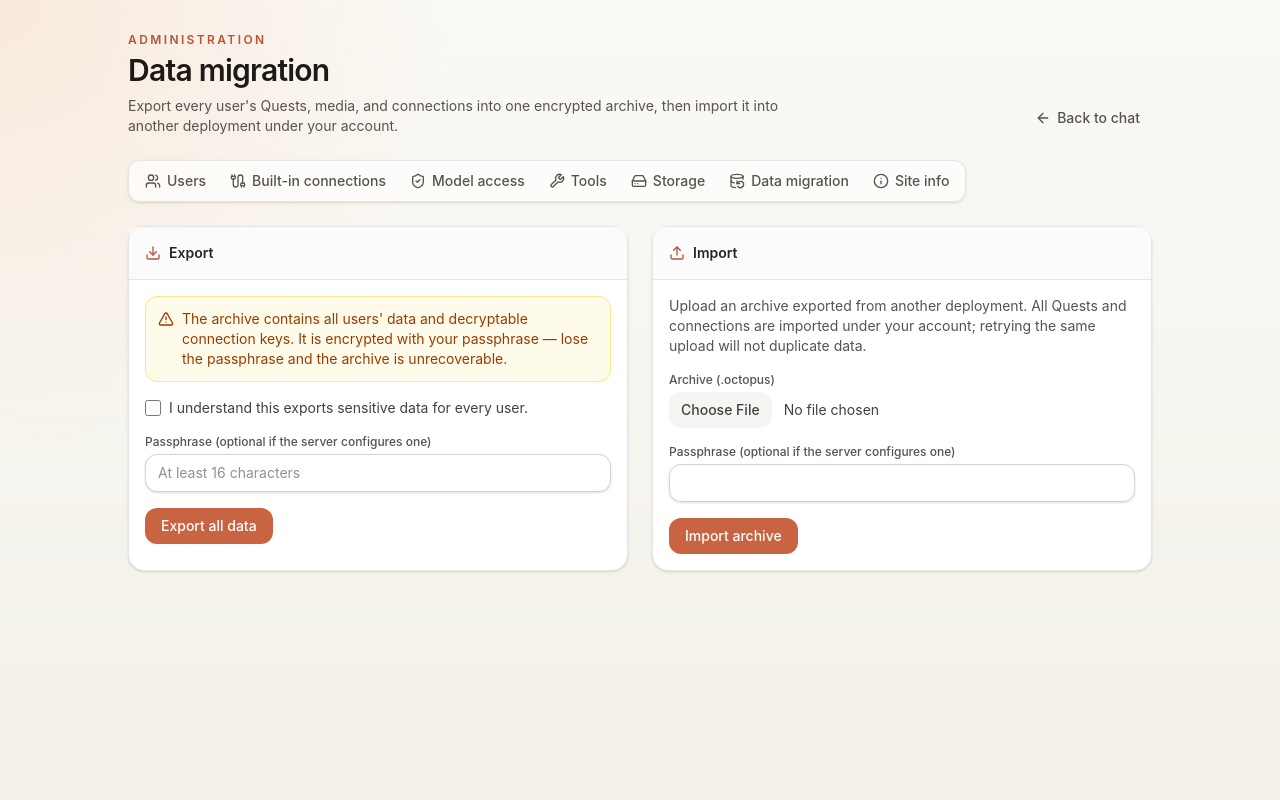
Scenario: MigrationPage › requires the sensitive-data acknowledgement before exporting
Step 1. Click the button "Export all data" → (209,526), box top-left (145, 508), bottom-right (273, 544)
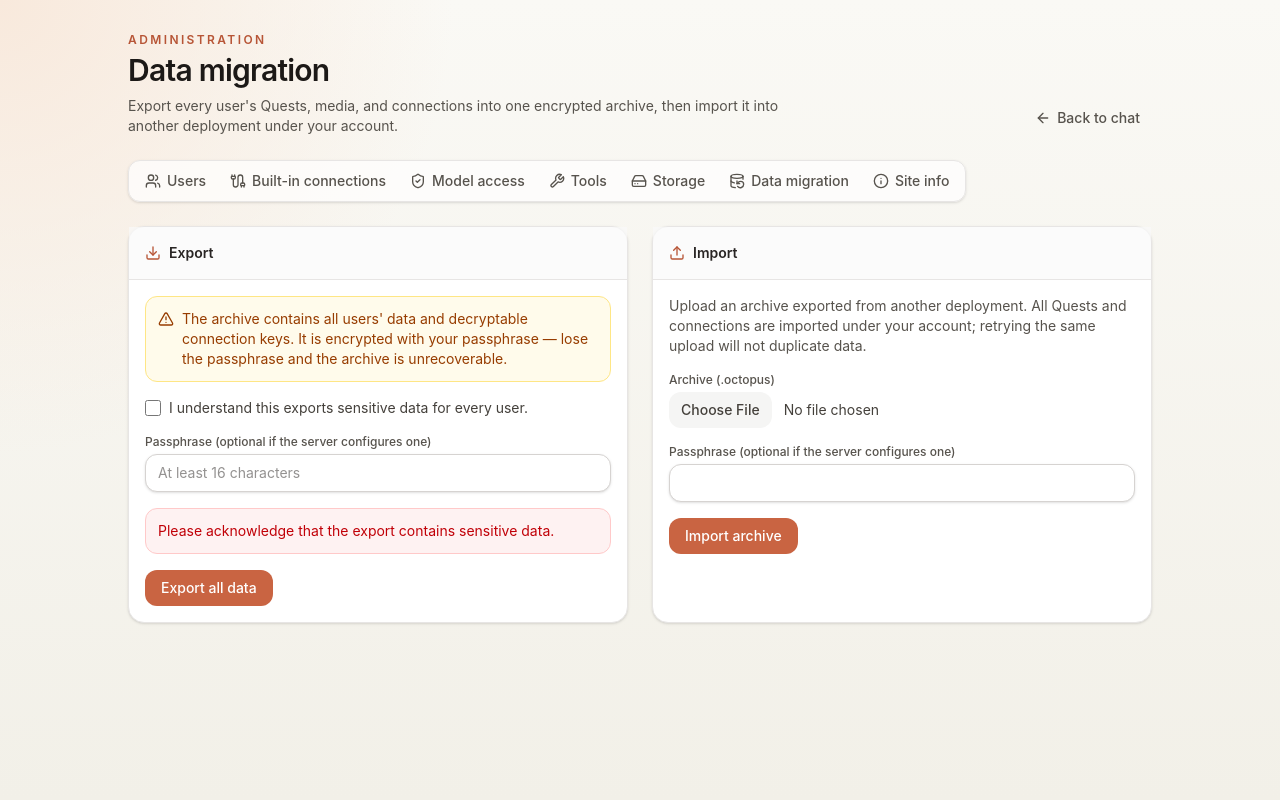
Expected: the text "Please acknowledge that the export contains sensitive data." is shown, top-left (145, 508), bottom-right (611, 554)
